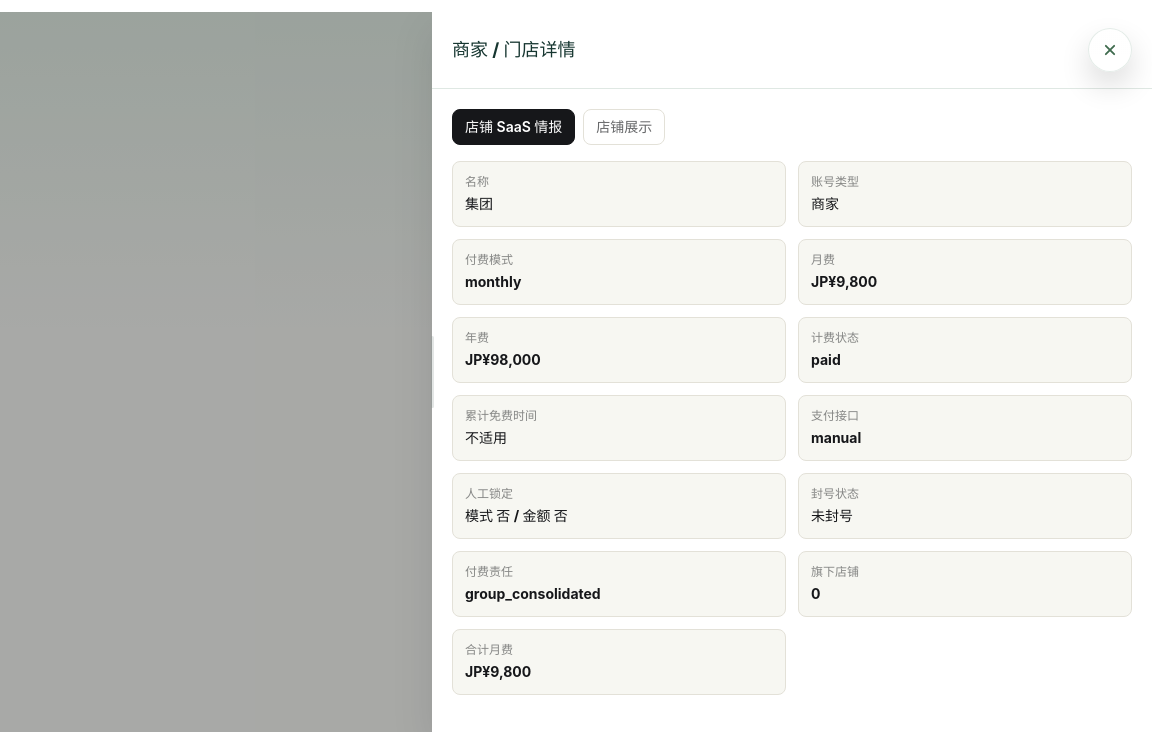
Test: shows an empty group without requesting a group ID as a shop
Click the button "店铺展示" at (624, 127), box left=583, top=109, right=665, bottom=145
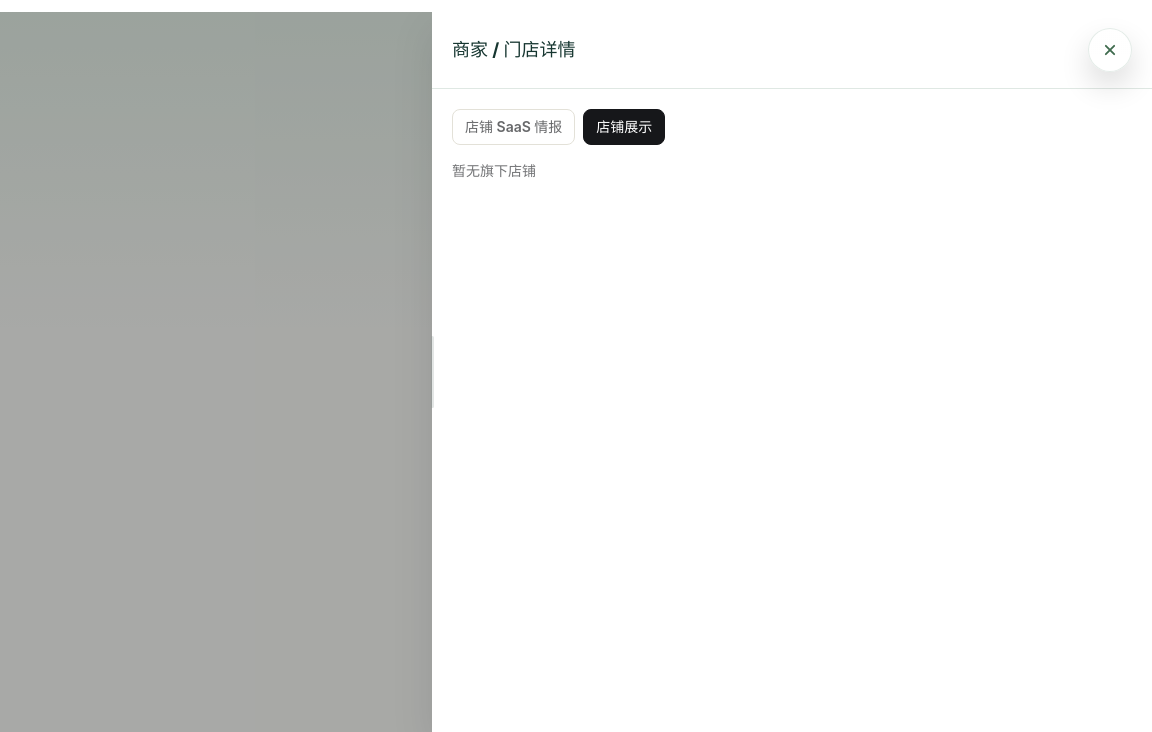
Expected: the text "暂无旗下店铺" is shown, left=452, top=162, right=536, bottom=179
